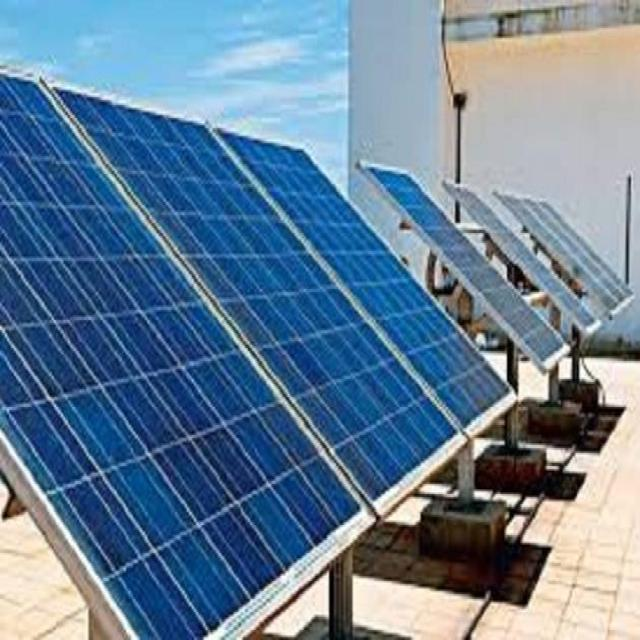clean-solar-panel: (0, 75, 515, 636)
